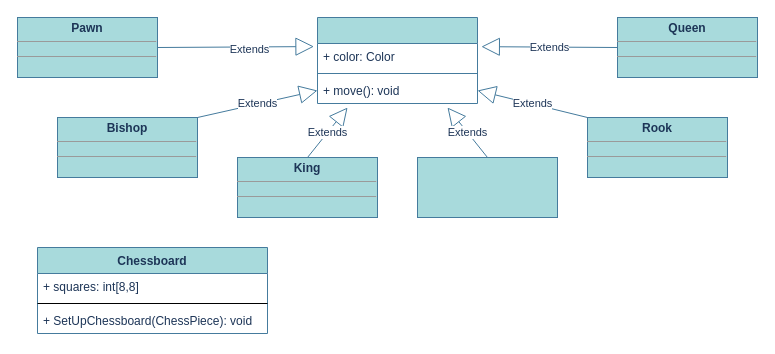
Image size: 775x354. Some labels were removed from this diagram. The shapes that lost their labels are listed below. From the top down, each one's box as (x1, y1, x2, y2) in pixels, then its label:
(316, 16, 478, 104): ChessPiece
(416, 156, 558, 218): Knight
